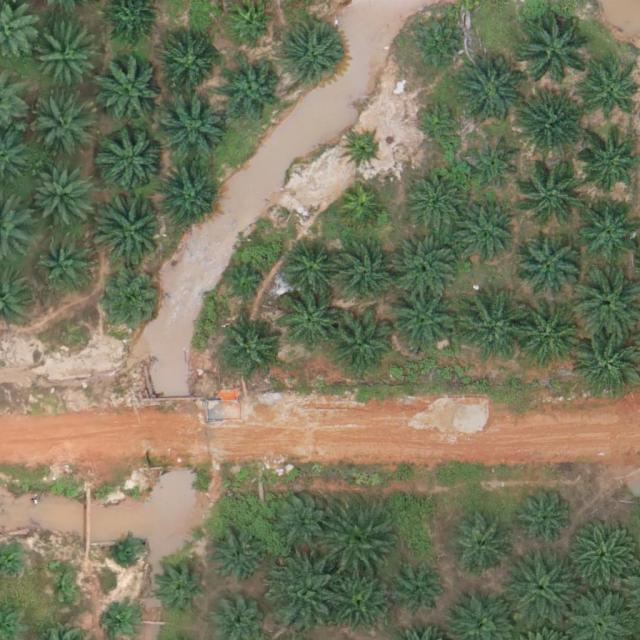Healthy: (565, 522, 636, 593), (512, 304, 582, 375), (519, 157, 589, 228), (514, 92, 584, 163), (520, 12, 590, 83), (456, 293, 526, 364), (327, 311, 397, 382), (157, 90, 228, 160), (95, 55, 166, 125), (98, 124, 168, 195), (97, 194, 167, 265), (511, 553, 581, 623), (324, 509, 394, 579), (268, 558, 338, 628), (454, 58, 524, 128), (390, 232, 460, 302), (388, 287, 458, 357), (514, 487, 577, 550), (269, 487, 332, 550), (577, 134, 640, 197), (280, 240, 343, 303), (219, 319, 282, 382), (99, 274, 162, 337), (29, 166, 92, 229), (328, 570, 390, 633), (577, 199, 640, 261), (516, 235, 578, 298), (405, 172, 468, 234), (454, 204, 516, 267), (334, 246, 396, 309), (277, 290, 340, 352), (223, 59, 285, 122), (157, 166, 219, 229), (35, 28, 97, 91), (32, 98, 94, 161), (451, 518, 513, 580), (282, 26, 344, 88), (210, 531, 265, 587), (394, 564, 449, 619), (154, 561, 209, 616), (468, 138, 523, 193), (409, 18, 464, 73), (164, 39, 219, 94), (40, 239, 95, 294), (585, 69, 639, 124)
Small: (416, 100, 463, 147), (223, 264, 270, 311), (344, 132, 384, 171), (106, 604, 137, 636), (110, 535, 141, 566), (50, 575, 81, 606)
Yellow: (339, 186, 386, 233)
